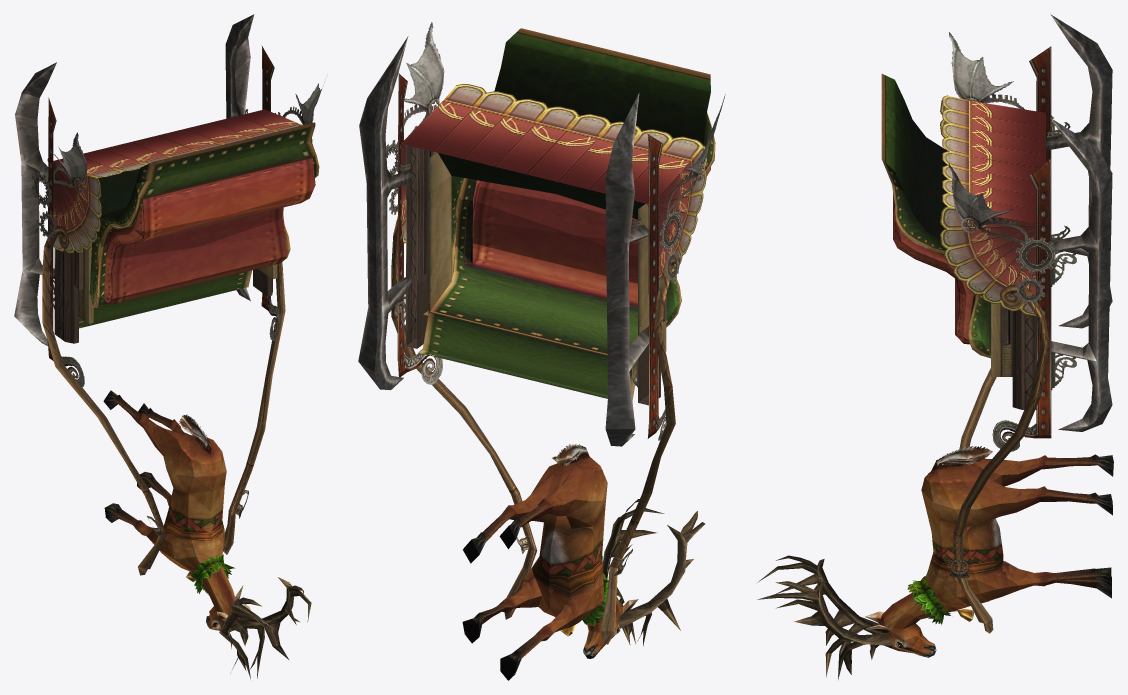
Rendered from mount_milu2.obj.
The picture shows the model from 3 angles, left to right: view 1: azimuth 30°, elevation 25°; view 2: azimuth 150°, elevation 25°; view 3: azimuth 270°, elevation 25°; orthographic projection. The views are drawn at different scales.
Visible parts, largest first — view 1: mount_milu2, Object02, Object01; view 2: mount_milu2, Object02, Object01; view 3: mount_milu2, Object02, Object01.
Boxes of the visible parts, x1,y1,x2,y2 form: mount_milu2: (14,14,324,387); Object02: (103,390,311,679); Object01: (39,211,285,575); mount_milu2: (358,22,725,446); Object02: (462,444,705,680); Object01: (389,187,679,644); mount_milu2: (881,14,1112,451); Object02: (757,446,1113,679); Object01: (949,277,1049,633).
Size of the model in its own units: 111 by 227 by 120.
2 materials, 2 textured.
